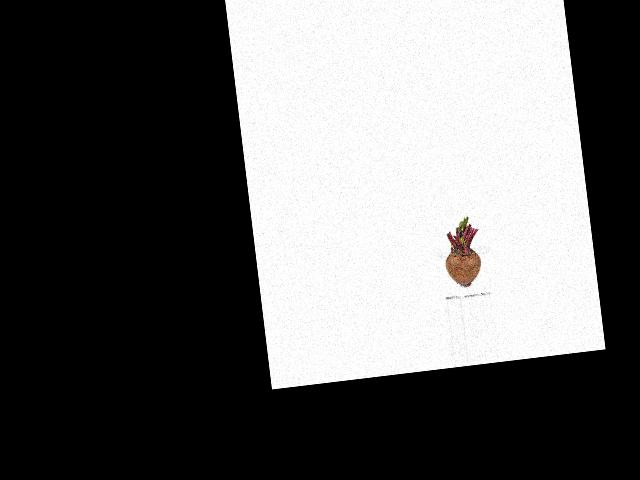beet: (439, 215, 484, 288)
